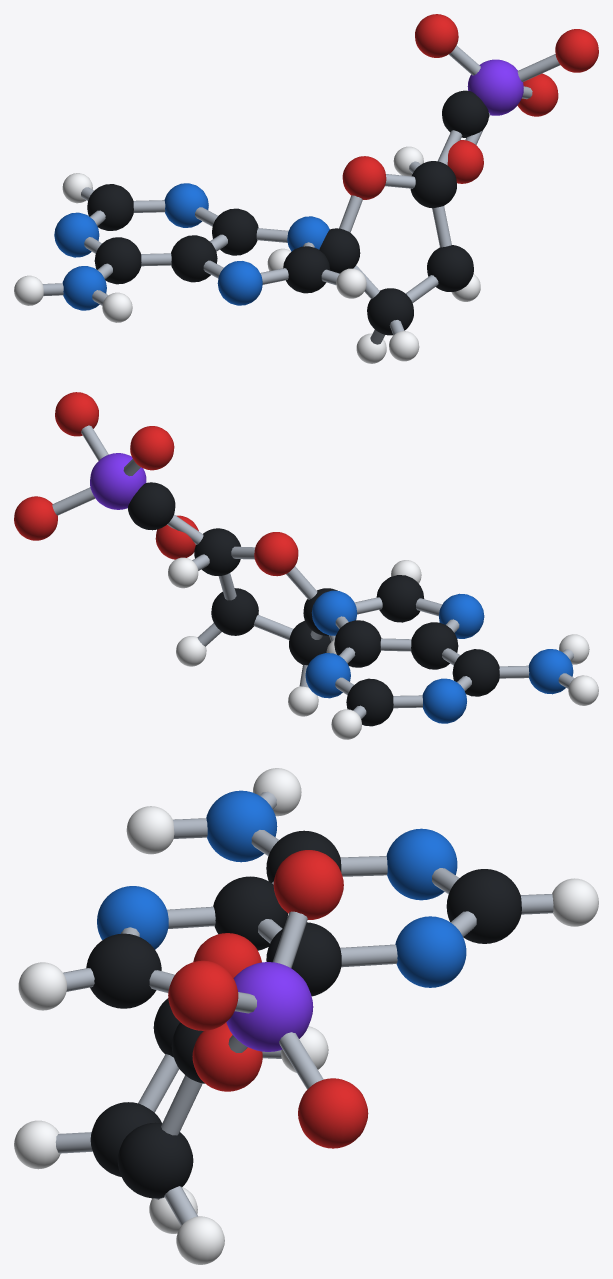
Rendered from nukleotid_A.glb.
3 views of the same model, one above another, from view 1: azimuth 30°, elevation 25°; view 2: azimuth 150°, elevation 25°; view 3: azimuth 270°, elevation 25° (orthographic). The views are drawn at different scales.
Visible parts, largest first — view 1: Baza_A, Deoksiriboze, Grup_Fosfat; view 2: Baza_A, Deoksiriboze, Grup_Fosfat; view 3: Baza_A, Grup_Fosfat, Deoksiriboze.
Boxes of the visible parts, x1=… form: Baza_A: x1=14, y1=173, x2=366, y2=322; Deoksiriboze: x1=267, y1=90, x2=488, y2=363; Grup_Fosfat: x1=415, y1=14, x2=598, y2=183; Baza_A: x1=305, y1=560, x2=598, y2=739; Deoksiriboze: x1=128, y1=482, x2=349, y2=716; Grup_Fosfat: x1=14, y1=392, x2=198, y2=559; Baza_A: x1=18, y1=768, x2=598, y2=1010; Grup_Fosfat: x1=168, y1=850, x2=368, y2=1148; Deoksiriboze: x1=14, y1=933, x2=328, y2=1264.
Size of the model in its own units: 3.99 by 1.98 by 2.27.
